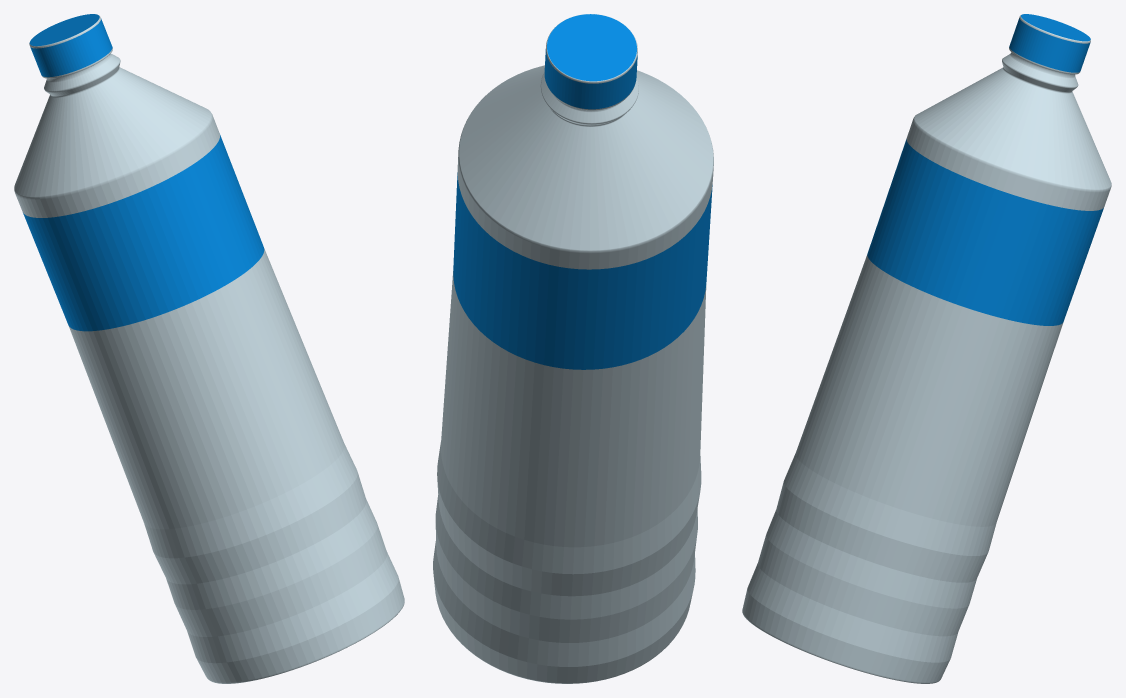
The model's file is botol plastik.fbx.
3 renders of one model, left to right at view 1: azimuth 30°, elevation 25°; view 2: azimuth 150°, elevation 25°; view 3: azimuth 270°, elevation 25°, orthographic. The views are drawn at different scales.
Parts seen in each view (by area): view 1: BOTOL; view 2: BOTOL; view 3: BOTOL.
Boxes of the visible parts, <box> form: BOTOL: <box>14,14,404,683</box>; BOTOL: <box>433,14,713,683</box>; BOTOL: <box>742,14,1111,683</box>.
Bounding box in the file's own units: 104 × 213 × 118.
